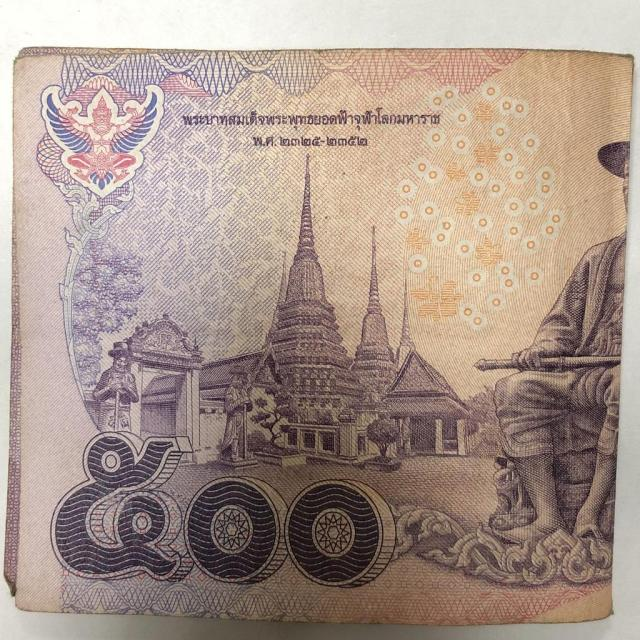THAI500: (4, 48, 634, 624)
